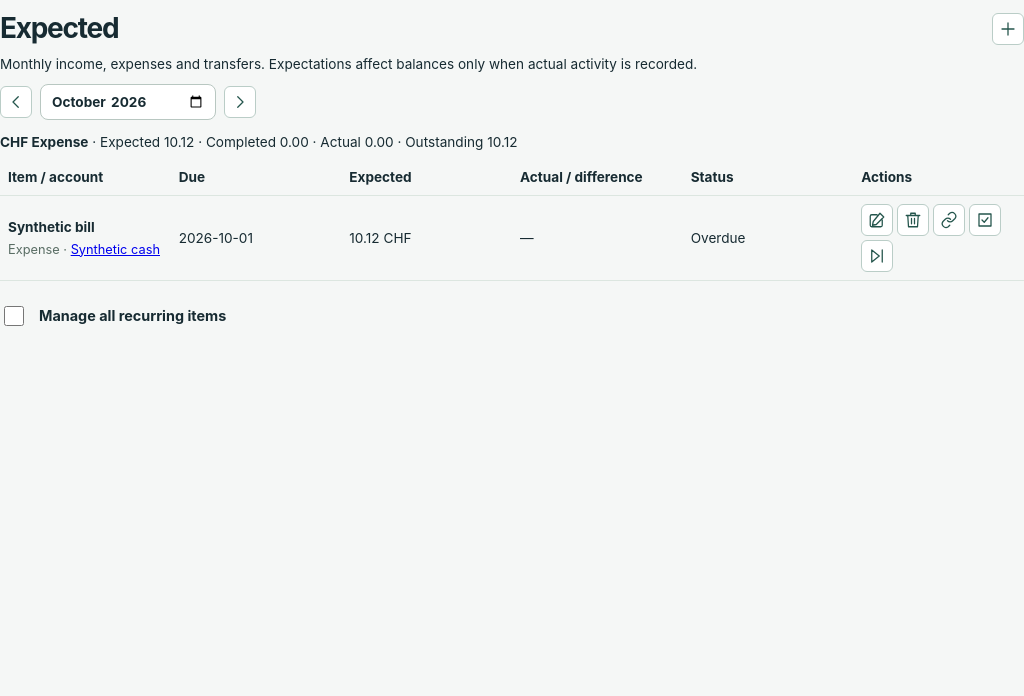
Test case: retains edited input after a stale request and requires cancellation
Expected: the text "Overdue" is shown, [683, 196, 853, 281]
Click the button named "Edit Synthetic bill" at (877, 220), box [861, 204, 893, 236]
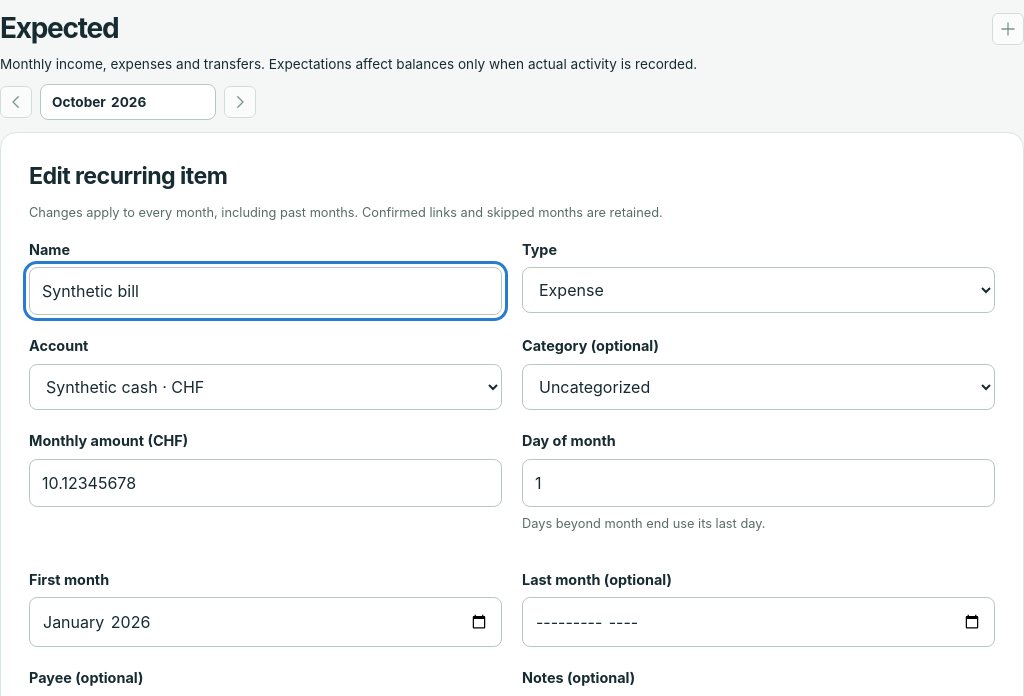
Replace the text in the field labelled "Monthly amount (CHF)" with "25" at (266, 482), box [29, 458, 502, 506]
(page scrolled)
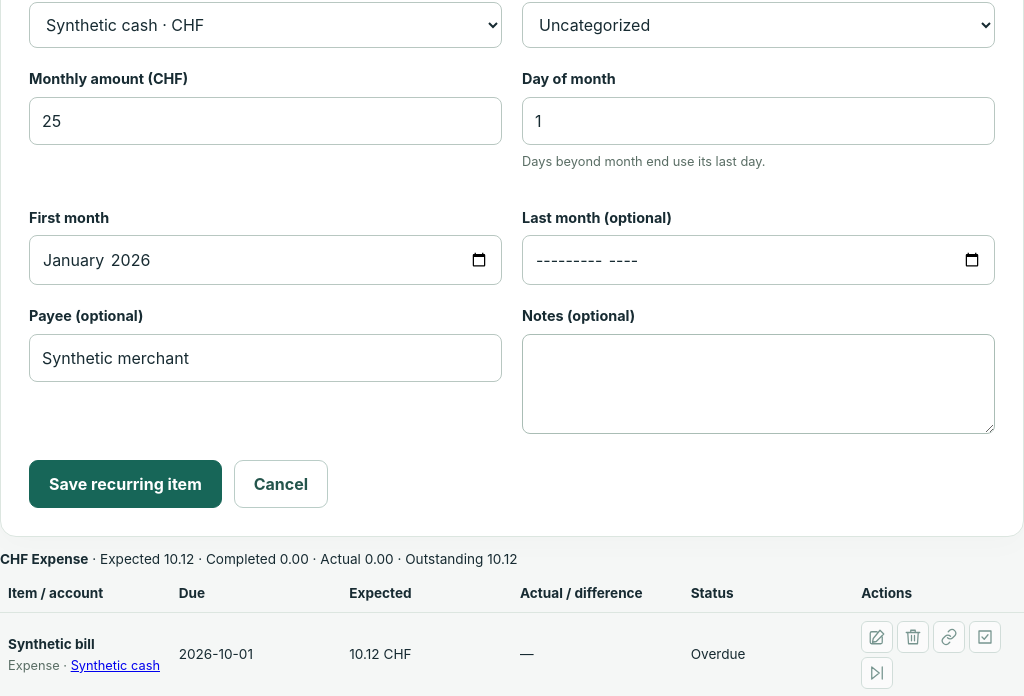
Click the button "Save recurring item" at (125, 484), box [29, 460, 222, 508]
(page scrolled)
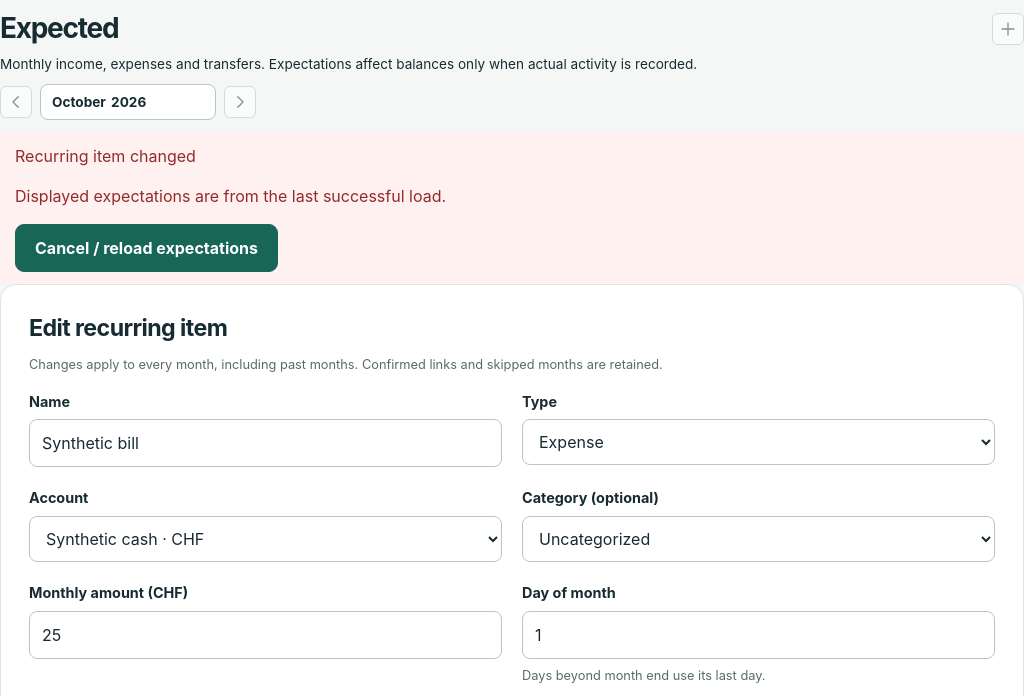
Now the text "Changes apply to every month" is shown, box [29, 358, 663, 372]
Now the text "Recurring item changed" is shown, box [15, 146, 196, 166]
